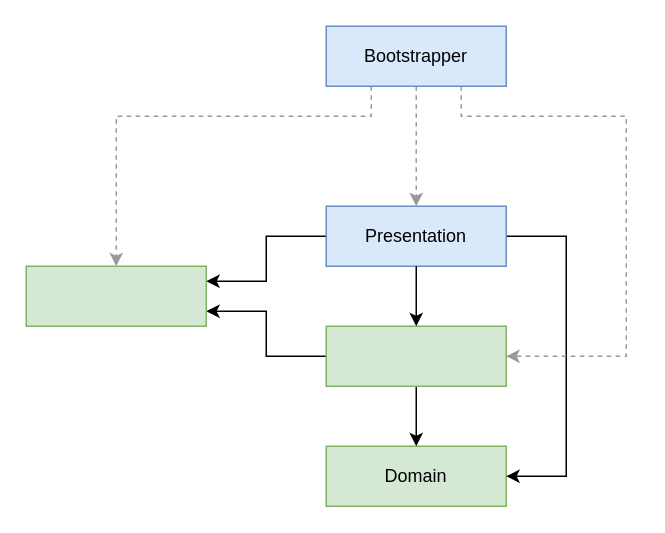
The diagram is 665 pixels wide and 533 high, and some of its shapes have lost their labels. Each missing label, with the centre of its shape:
"Application" belongs at point 415,355.
"Infrastructure" belongs at point 115,295.
